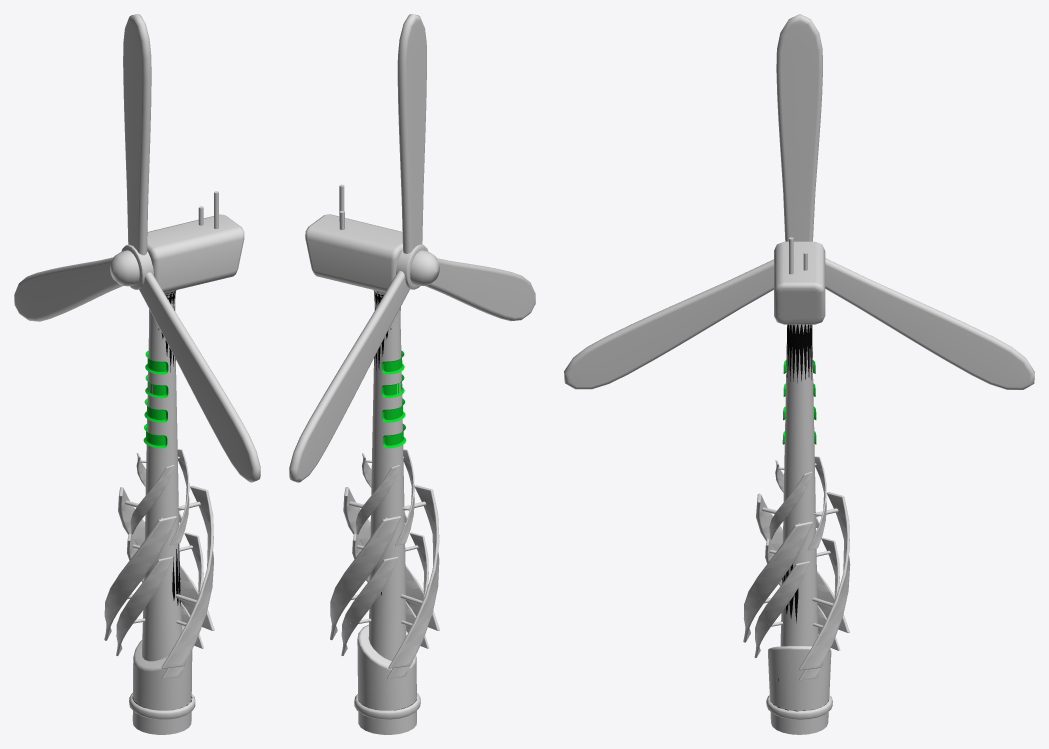
The model's file is SM_Eolienne_001.fbx.
3 renders of one model, left to right at view 1: azimuth 30°, elevation 25°; view 2: azimuth 150°, elevation 25°; view 3: azimuth 270°, elevation 25°, orthographic. The views are drawn at different scales.
Parts seen in each view (by area): view 1: SM_Eolienne_01, SM_Eolienne_03_lp (×2), SM_Eolienne_01_lp, SM_Eolienne_03 (×3), SM_Eolienne_01_hp, SM_Eolienne_04_lp (×2), SM_Eolienne_01_002_, SM_Eolienne_02_lp, SM_Eolienne_02_hp, SM_Eolienne_03_hp, SM_Eolienne_05_lp, SM_Eolienne_04_hp (+2 smaller); view 2: SM_Eolienne_01, SM_Eolienne_03_lp (×2), SM_Eolienne_01_lp, SM_Eolienne_04_lp (×2), SM_Eolienne_02_lp, SM_Eolienne_01_hp, SM_Eolienne_02 (×2), SM_Eolienne_03 (×2), SM_Eolienne_01_002_, SM_Eolienne_04_hp, SM_Eolienne_02_hp, SM_Eolienne_06_lp (+3 smaller); view 3: SM_Eolienne_01_lp, SM_Eolienne_04_lp (×2), SM_Eolienne_06_lp, SM_Eolienne_05_lp, SM_Eolienne_03_lp (×2), SM_Eolienne_01_hp, SM_Eolienne_01_002_, SM_Eolienne_03_hp, SM_Eolienne_04_hp, SM_Eolienne_03, SM_Eolienne_02_lp, SM_Eolienne_01 (+1 smaller).
Boxes of the visible parts, left/top/right/bottom form: SM_Eolienne_01: left=14, top=14, right=258, bottom=734; SM_Eolienne_03_lp (×2): left=147, top=214, right=244, bottom=668; SM_Eolienne_01_lp: left=131, top=290, right=195, bottom=732; SM_Eolienne_03 (×3): left=104, top=487, right=213, bottom=668; SM_Eolienne_01_hp: left=132, top=290, right=192, bottom=708; SM_Eolienne_04_lp (×2): left=118, top=14, right=214, bottom=630; SM_Eolienne_01_002_: left=116, top=455, right=202, bottom=678; SM_Eolienne_02_lp: left=104, top=516, right=176, bottom=640; SM_Eolienne_02_hp: left=105, top=518, right=174, bottom=637; SM_Eolienne_03_hp: left=164, top=494, right=213, bottom=667; SM_Eolienne_05_lp: left=149, top=272, right=260, bottom=479; SM_Eolienne_04_hp: left=118, top=496, right=210, bottom=623; SM_Eolienne_01: left=292, top=14, right=535, bottom=734; SM_Eolienne_03_lp (×2): left=305, top=214, right=439, bottom=630; SM_Eolienne_01_lp: left=354, top=290, right=418, bottom=733; SM_Eolienne_04_lp (×2): left=330, top=14, right=411, bottom=640; SM_Eolienne_02_lp: left=388, top=485, right=439, bottom=668; SM_Eolienne_01_hp: left=358, top=290, right=416, bottom=710; SM_Eolienne_02 (×2): left=341, top=556, right=398, bottom=653; SM_Eolienne_03 (×2): left=330, top=485, right=438, bottom=678; SM_Eolienne_01_002_: left=341, top=455, right=427, bottom=678; SM_Eolienne_04_hp: left=331, top=518, right=399, bottom=636; SM_Eolienne_02_hp: left=391, top=496, right=438, bottom=667; SM_Eolienne_06_lp: left=289, top=271, right=400, bottom=480; SM_Eolienne_01_lp: left=766, top=324, right=832, bottom=734; SM_Eolienne_04_lp (×2): left=776, top=14, right=850, bottom=670; SM_Eolienne_06_lp: left=825, top=258, right=1034, bottom=389; SM_Eolienne_05_lp: left=564, top=260, right=773, bottom=389; SM_Eolienne_03_lp (×2): left=743, top=242, right=825, bottom=642; SM_Eolienne_01_hp: left=770, top=324, right=828, bottom=711; SM_Eolienne_01_002_: left=754, top=462, right=838, bottom=680; SM_Eolienne_03_hp: left=744, top=524, right=811, bottom=638; SM_Eolienne_04_hp: left=801, top=501, right=849, bottom=668; SM_Eolienne_03: left=744, top=492, right=849, bottom=645; SM_Eolienne_02_lp: left=756, top=493, right=849, bottom=632; SM_Eolienne_01: left=573, top=14, right=1025, bottom=711.
Bounding box in the file's own units: 287 × 1618 × 991.
